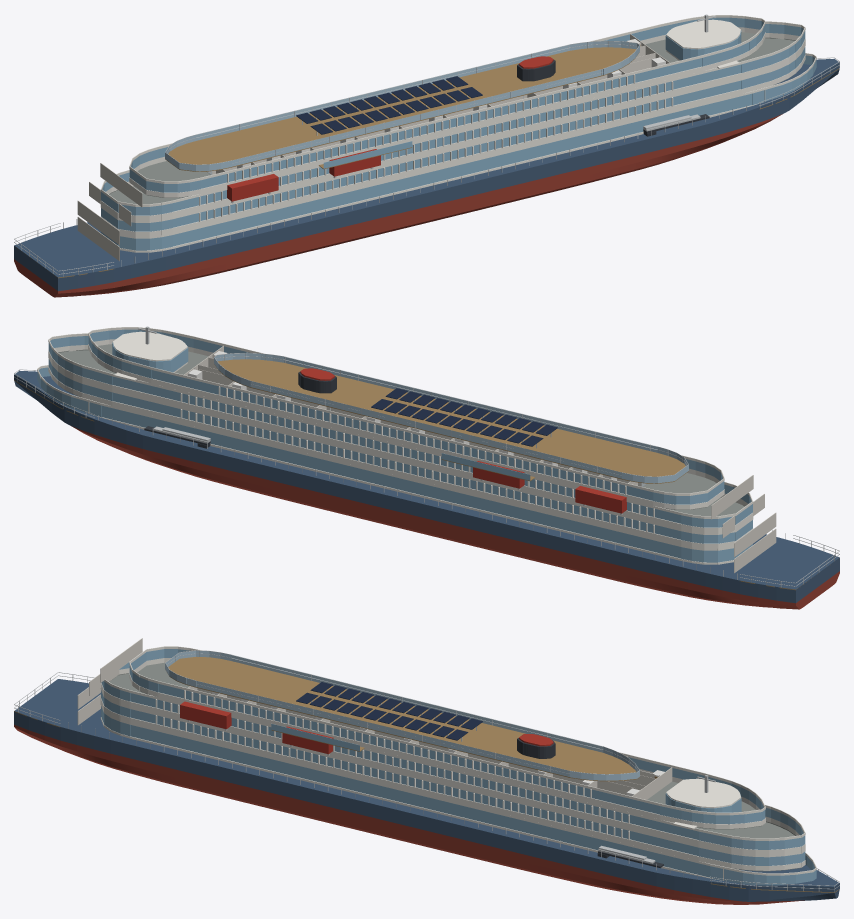
The model's file is vessel.glb.
3 renders of one model, top to bottom at view 1: azimuth 30°, elevation 25°; view 2: azimuth 150°, elevation 25°; view 3: azimuth 330°, elevation 25°, orthographic.
Visible parts, largest first — view 1: vessel (×13); view 2: vessel (×13); view 3: vessel (×12).
Boxes of the visible parts, x1,y1,x2,y2 form: vessel (×13): (14,14,839,297); vessel (×13): (14,326,839,609); vessel (×12): (14,638,839,904).
Bounding box in the file's own units: 141 × 19.42 × 16.8.
